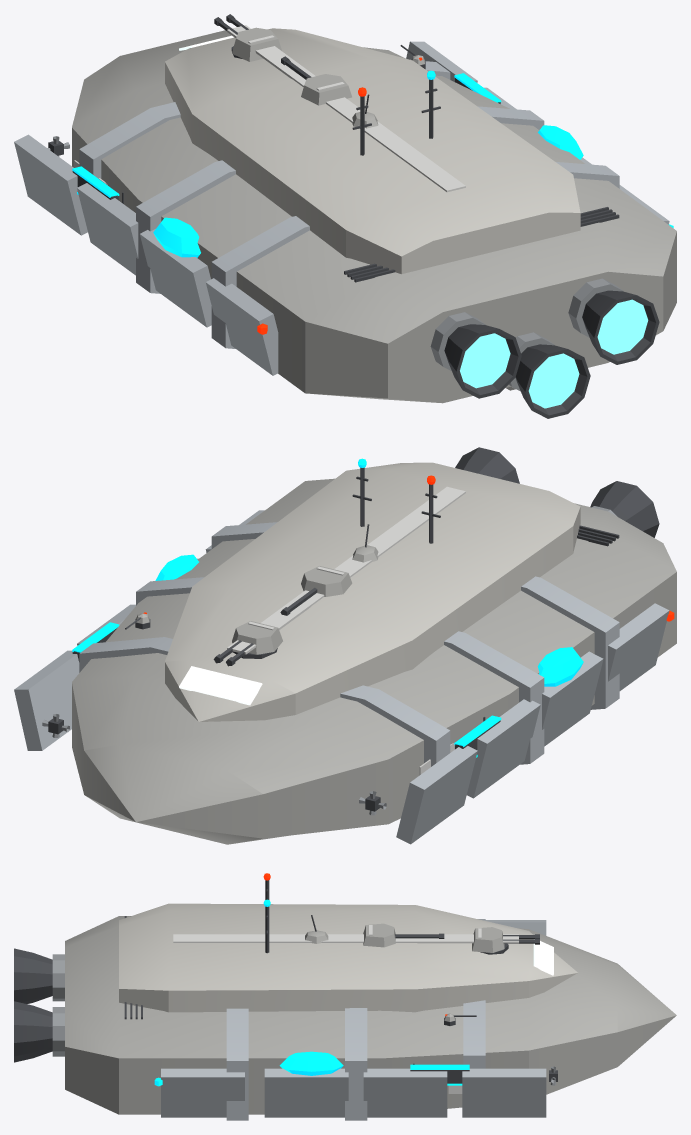
The model's file is bastion.glb.
The picture shows the model from 3 angles, top to bottom: view 1: azimuth 30°, elevation 25°; view 2: azimuth 150°, elevation 25°; view 3: azimuth 270°, elevation 25°; orthographic projection. The views are drawn at different scales.
Parts seen in each view (by area): view 1: Hull, Turret_5, Turret_6; view 2: Hull, Turret_5, Turret_6; view 3: Hull, Turret_5, Turret_6.
Part boxes in pixels (x1,y1,x2,y2): Hull: (14, 25, 676, 418); Turret_5: (214, 14, 281, 61); Turret_6: (281, 56, 351, 105); Hull: (14, 447, 676, 844); Turret_5: (213, 621, 282, 666); Turret_6: (280, 566, 352, 615); Hull: (14, 873, 676, 1120); Turret_5: (472, 927, 539, 954); Turret_6: (363, 923, 444, 947).
Size of the model in its own units: 1.13 by 0.6012 by 2.
